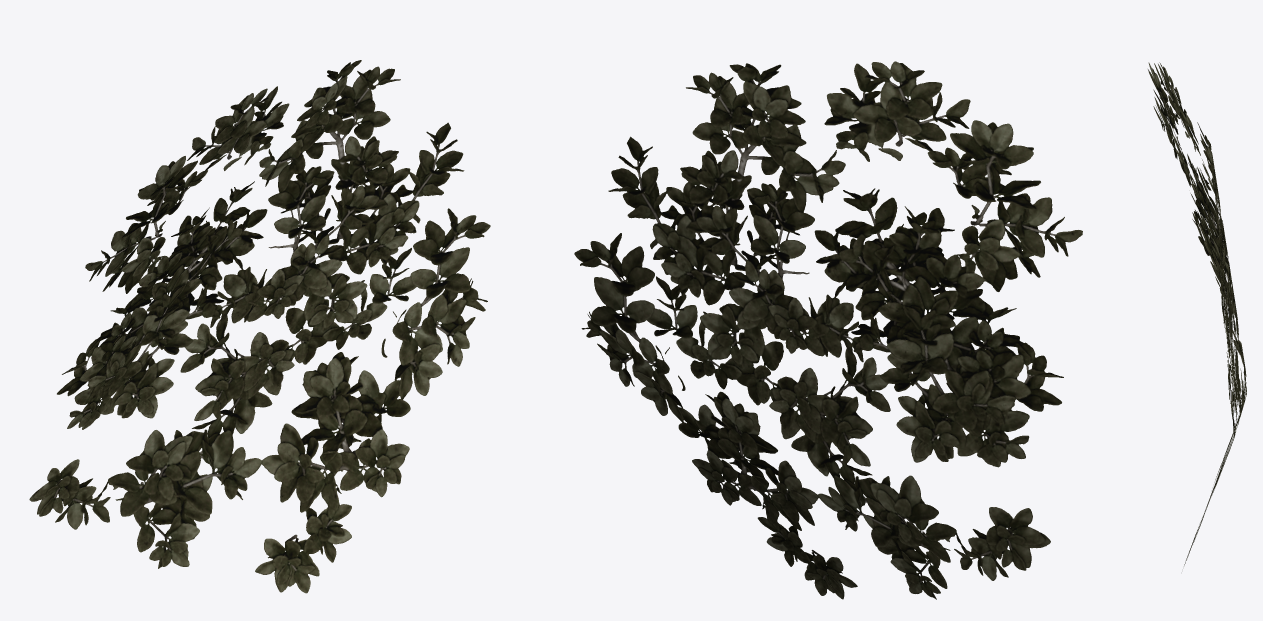
Rendered from TI_Bush_02_Part_01.fbx.
3 renders of one model, left to right at view 1: azimuth 30°, elevation 25°; view 2: azimuth 150°, elevation 25°; view 3: azimuth 270°, elevation 25°, orthographic. The views are drawn at different scales.
Visible parts, largest first — view 1: TI_Bush_02_Part_01; view 2: TI_Bush_02_Part_01; view 3: TI_Bush_02_Part_01.
Part boxes in pixels (x1,y1,x2,y2): TI_Bush_02_Part_01: (29, 60, 490, 593); TI_Bush_02_Part_01: (574, 61, 1082, 599); TI_Bush_02_Part_01: (1148, 62, 1246, 565).
Bounding box in the file's own units: 1.15 × 1.26 × 0.2784.
